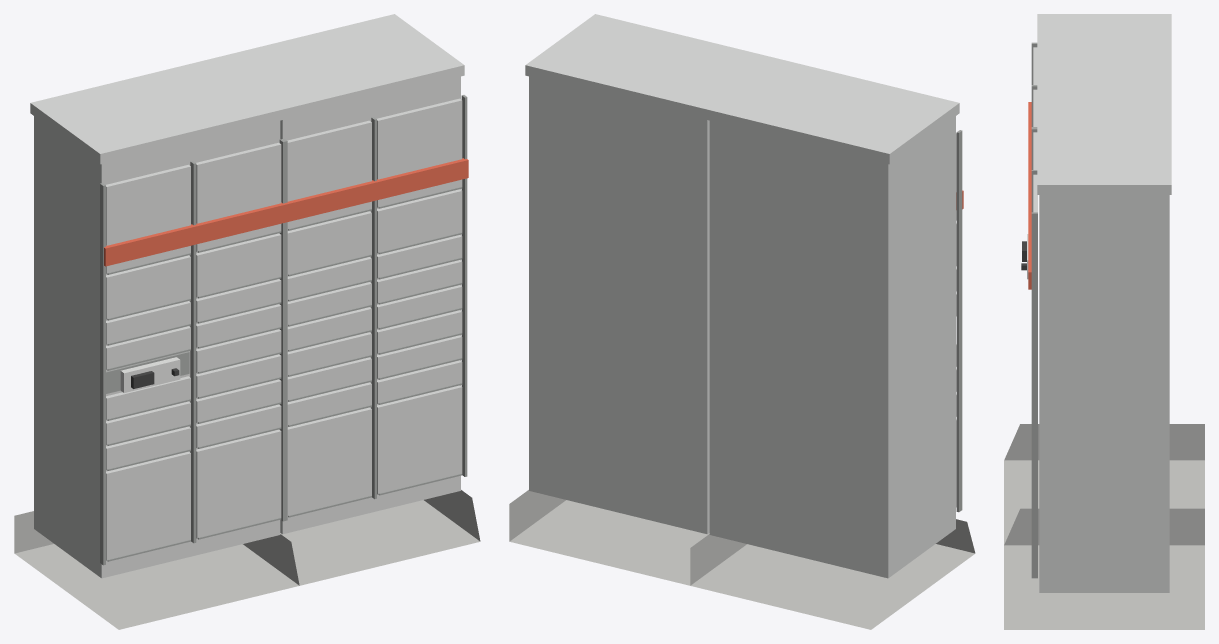
The model's file is sockel_2.glb.
3 renders of one model, left to right at view 1: azimuth 30°, elevation 25°; view 2: azimuth 150°, elevation 25°; view 3: azimuth 270°, elevation 25°, orthographic. The views are drawn at different scales.
Parts seen in each view (by area): view 1: Body_0, Top_0, Top_1, Sockel_0, Sockel_1, RedBand, Door_3_0, Door_1_0, Door_0_0, Door_2_0, Body_1, Door_3_8 (+37 smaller); view 2: Body_0, Body_1, Top_0, Top_1, Sockel_0, Sockel_1, Frame_-1.0; view 3: Body_1, Top_1, Sockel_1, Top_0, Sockel_0, Frame_1.0, RedBand.
Part boxes in pixels (x1,y1,x2,y2): Body_0: [34, 116, 280, 578]; Top_0: [30, 58, 283, 164]; Top_1: [214, 14, 464, 119]; Sockel_0: [14, 511, 299, 629]; Sockel_1: [280, 490, 480, 585]; RedBand: [104, 158, 468, 266]; Door_3_0: [377, 385, 462, 494]; Door_1_0: [196, 429, 281, 538]; Door_0_0: [106, 451, 190, 560]; Door_2_0: [287, 407, 371, 516]; Body_1: [280, 76, 460, 534]; Door_3_8: [377, 98, 462, 207]; Body_0: [709, 116, 955, 578]; Body_1: [529, 76, 709, 534]; Top_0: [706, 58, 959, 164]; Top_1: [525, 14, 775, 119]; Sockel_0: [690, 519, 975, 629]; Sockel_1: [509, 490, 709, 585]; Frame_-1.0: [956, 130, 962, 512]; Body_1: [1039, 195, 1169, 592]; Top_1: [1037, 98, 1171, 194]; Sockel_1: [1004, 508, 1204, 629]; Top_0: [1037, 14, 1171, 99]; Sockel_0: [1004, 424, 1204, 544]; Frame_1.0: [1031, 212, 1037, 578]; RedBand: [1028, 102, 1031, 289].
Size of the model in its own units: 2.02 by 2.45 by 1.
